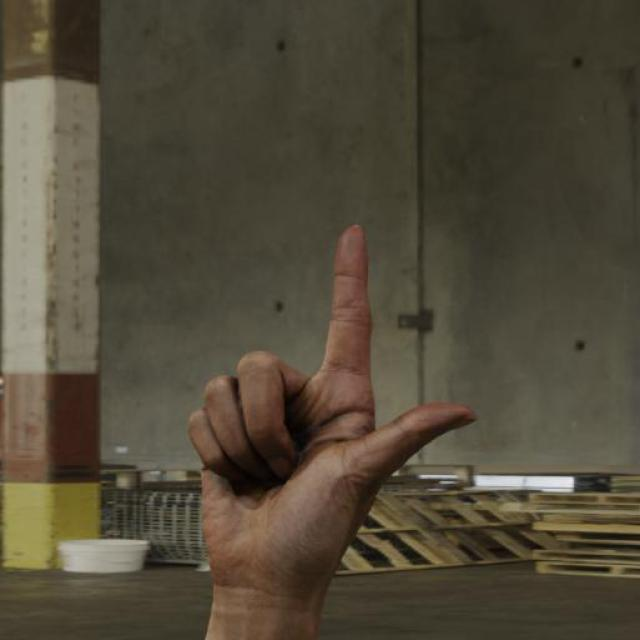L: (184, 221, 482, 578)
